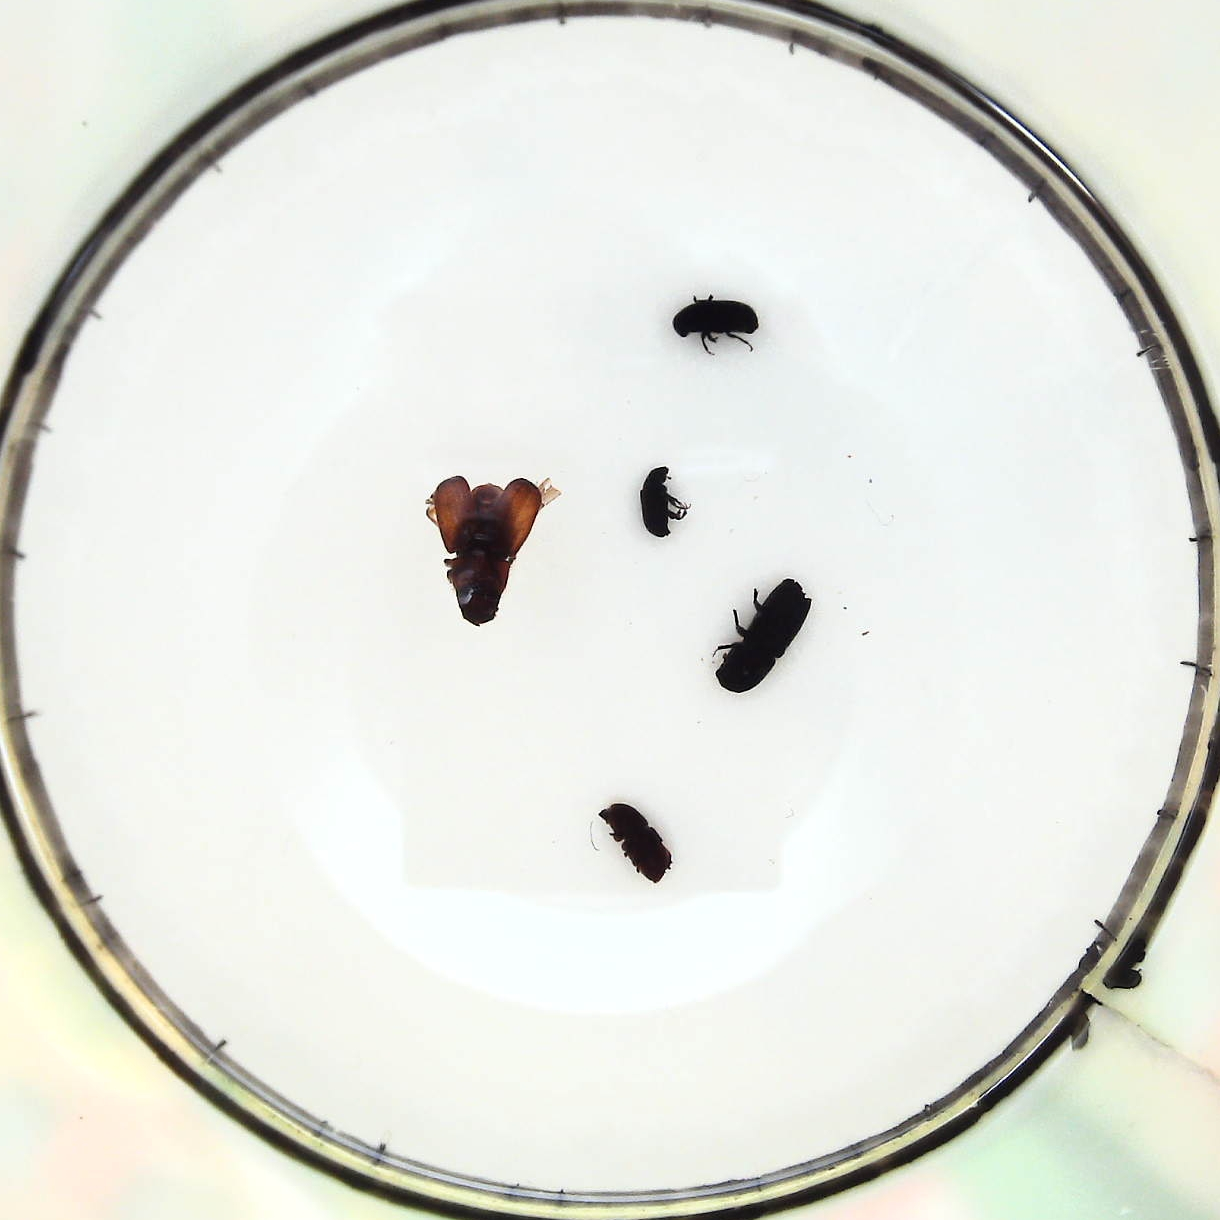Boerner: (719, 576, 816, 697)
Leconte: (428, 465, 542, 621)
Linnaeus: (601, 797, 682, 887)
armandi: (674, 292, 762, 343)
coleoptera: (637, 465, 686, 543)
